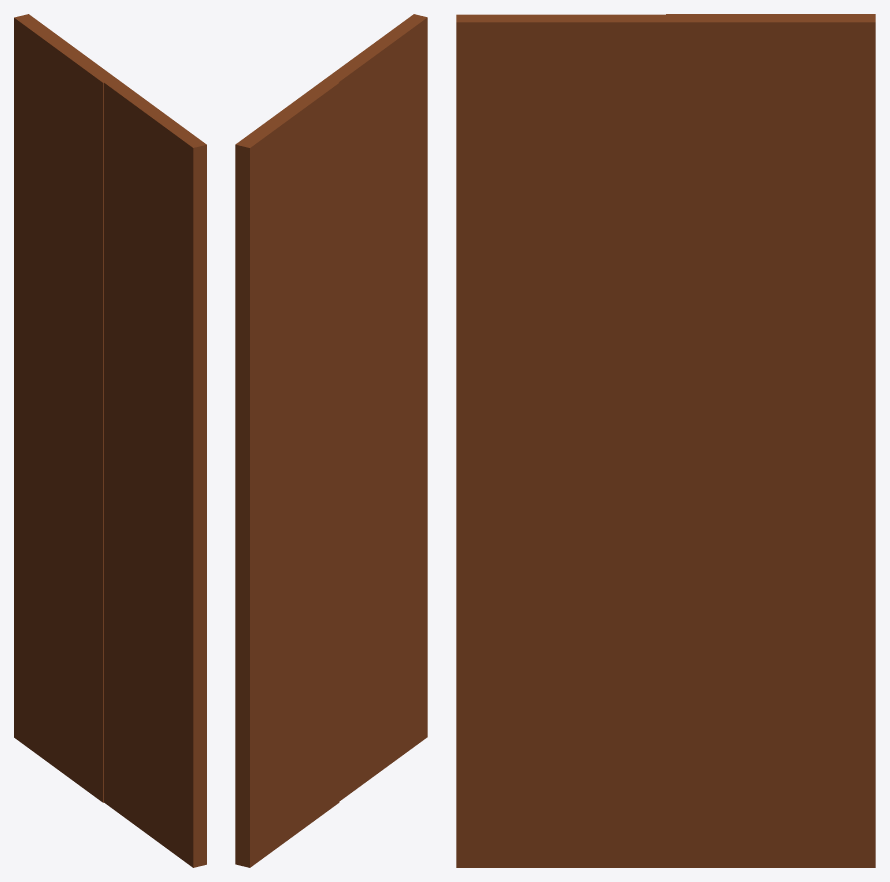
Rendered from MainDoor1Transformed1.fbx.
3 renders of one model, left to right at view 1: azimuth 30°, elevation 25°; view 2: azimuth 150°, elevation 25°; view 3: azimuth 270°, elevation 25°, orthographic. The views are drawn at different scales.
Parts seen in each view (by area): view 1: HB_Door_Concept_Int_Bi_Folding_- DT-08:1010x2110mm DT-08:994; view 2: HB_Door_Concept_Int_Bi_Folding_- DT-08:1010x2110mm DT-08:994; view 3: HB_Door_Concept_Int_Bi_Folding_- DT-08:1010x2110mm DT-08:994.
Boxes of the visible parts, left/top/right/bottom form: HB_Door_Concept_Int_Bi_Folding_- DT-08:1010x2110mm DT-08:994: left=14, top=14, right=206, bottom=867; HB_Door_Concept_Int_Bi_Folding_- DT-08:1010x2110mm DT-08:994: left=235, top=14, right=427, bottom=867; HB_Door_Concept_Int_Bi_Folding_- DT-08:1010x2110mm DT-08:994: left=456, top=14, right=875, bottom=867.
Size of the model in its own units: 0.0443 by 2.06 by 0.927.
